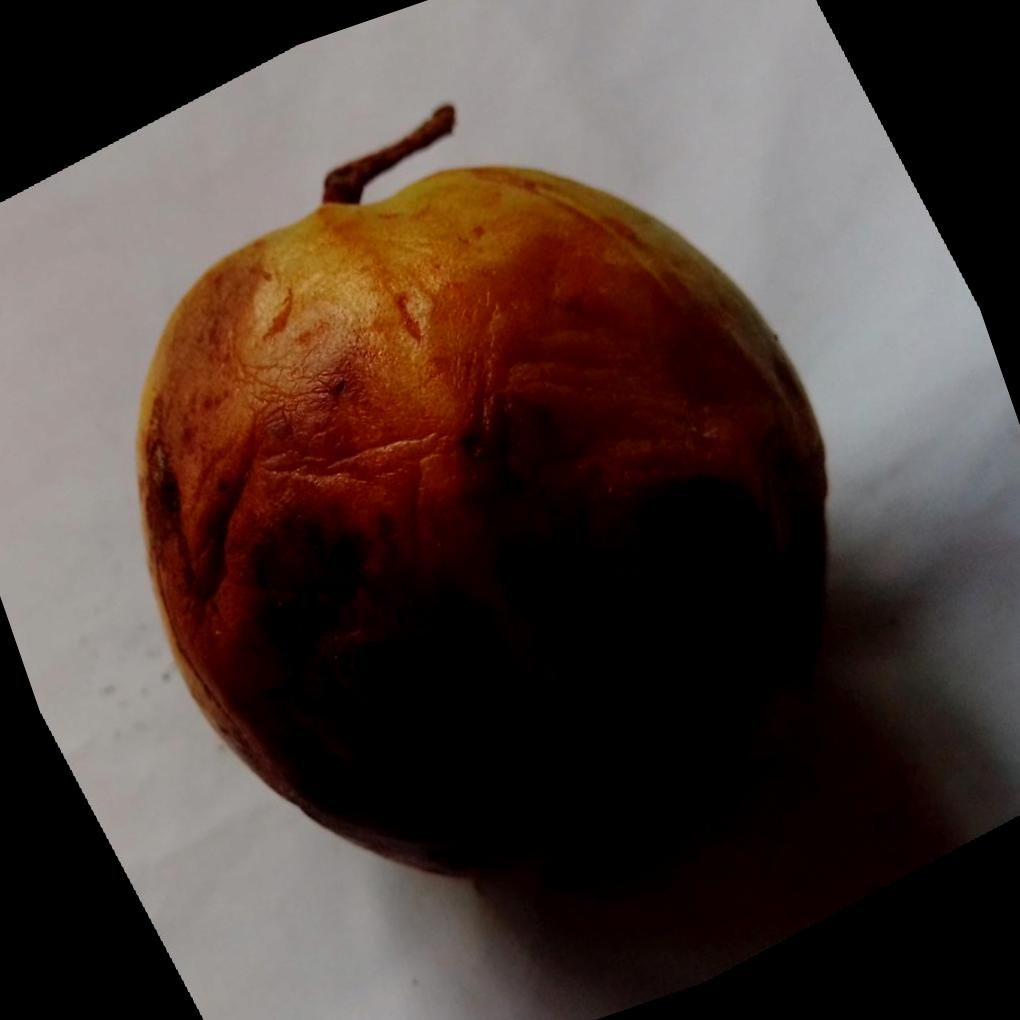FreshOrange: (135, 104, 833, 887)
